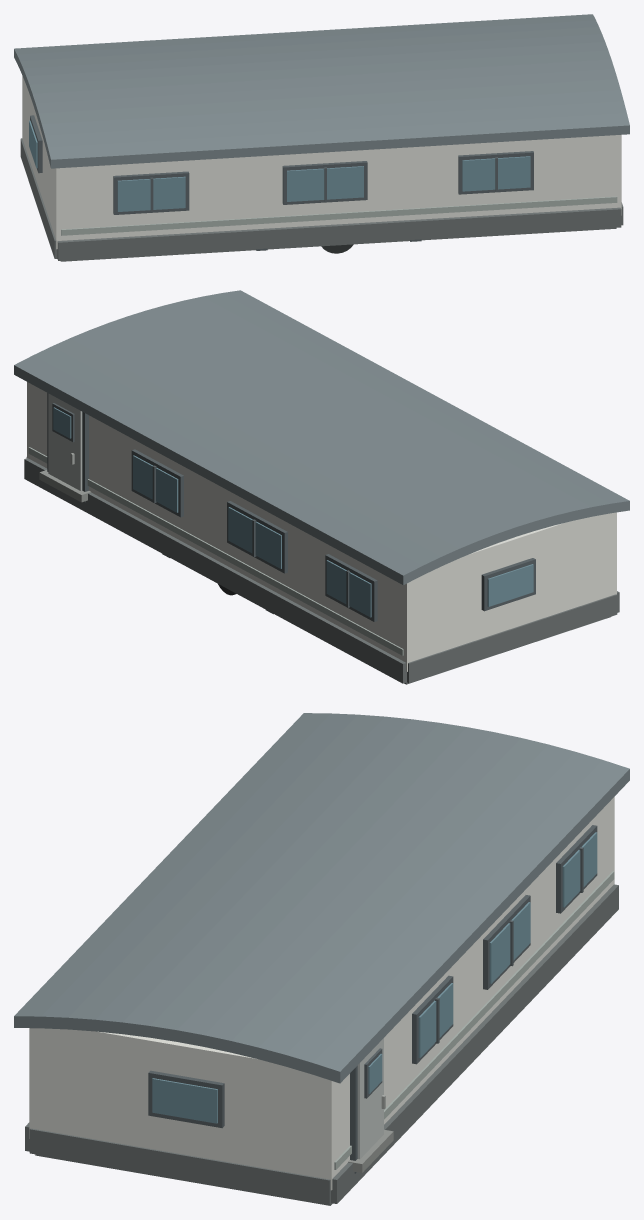
3 views of the same model, one above another, from view 1: azimuth 30°, elevation 25°; view 2: azimuth 150°, elevation 25°; view 3: azimuth 270°, elevation 25° (orthographic). The views are drawn at different scales.
Visible parts, largest first — view 1: shallow_crowned_roof, main_caravan_body, lower_side_skirt_negative, side_stripe_negative, negative_side_window_2_glass, negative_side_window_3_glass, negative_side_window_1_glass, negative_side_window_2_frame, negative_side_window_1_frame, negative_side_window_3_frame, lower_end_skirt_negative, underframe_main; view 2: shallow_crowned_roof, main_caravan_body, lower_side_skirt_positive, lower_end_skirt_negative, side_stripe_positive, entrance_door_panel, positive_side_window_2_glass, positive_side_window_1_glass, positive_side_window_3_glass, rear_end_window_glass, positive_side_window_2_frame, positive_side_window_1_frame (+4 smaller); view 3: shallow_crowned_roof, main_caravan_body, lower_side_skirt_positive, lower_end_skirt_positive, side_stripe_positive, front_end_window_glass, entrance_door_panel, positive_side_window_2_glass, positive_side_window_1_glass, positive_side_window_3_glass, front_end_window_frame, positive_side_window_2_frame (+3 smaller).
Part boxes in pixels (x1,y1,x2,y2): shallow_crowned_roof: (14, 14, 629, 168); main_caravan_body: (22, 76, 621, 249); lower_side_skirt_negative: (57, 207, 621, 260); side_stripe_negative: (61, 196, 617, 235); negative_side_window_2_glass: (287, 166, 363, 201); negative_side_window_3_glass: (462, 156, 530, 191); negative_side_window_1_glass: (117, 176, 185, 211); negative_side_window_2_frame: (282, 161, 367, 204); negative_side_window_1_frame: (113, 171, 189, 214); negative_side_window_3_frame: (458, 151, 533, 194); lower_end_skirt_negative: (20, 138, 57, 258); underframe_main: (60, 228, 616, 261); shallow_crowned_roof: (14, 290, 629, 585); main_caravan_body: (27, 382, 616, 671); lower_side_skirt_positive: (24, 458, 406, 683); lower_end_skirt_negative: (407, 594, 617, 683); side_stripe_positive: (28, 447, 403, 655); entrance_door_panel: (48, 393, 82, 490); positive_side_window_2_glass: (228, 507, 281, 568); positive_side_window_1_glass: (326, 560, 371, 617); positive_side_window_3_glass: (133, 455, 178, 512); rear_end_window_glass: (487, 564, 533, 606); positive_side_window_2_frame: (227, 501, 287, 573); positive_side_window_1_frame: (325, 554, 377, 621); shallow_crowned_roof: (14, 713, 629, 1083); main_caravan_body: (29, 797, 614, 1190); lower_side_skirt_positive: (331, 884, 618, 1203); lower_end_skirt_positive: (29, 1128, 330, 1204); side_stripe_positive: (334, 871, 614, 1169); front_end_window_glass: (152, 1078, 217, 1123); entrance_door_panel: (357, 1038, 383, 1159); positive_side_window_2_glass: (489, 902, 530, 983); positive_side_window_1_glass: (562, 832, 597, 907); positive_side_window_3_glass: (418, 983, 453, 1057); front_end_window_frame: (148, 1070, 224, 1128); positive_side_window_2_frame: (483, 895, 530, 989).
Bounding box in the file's own units: 11.15 × 2.5 × 8.09.
